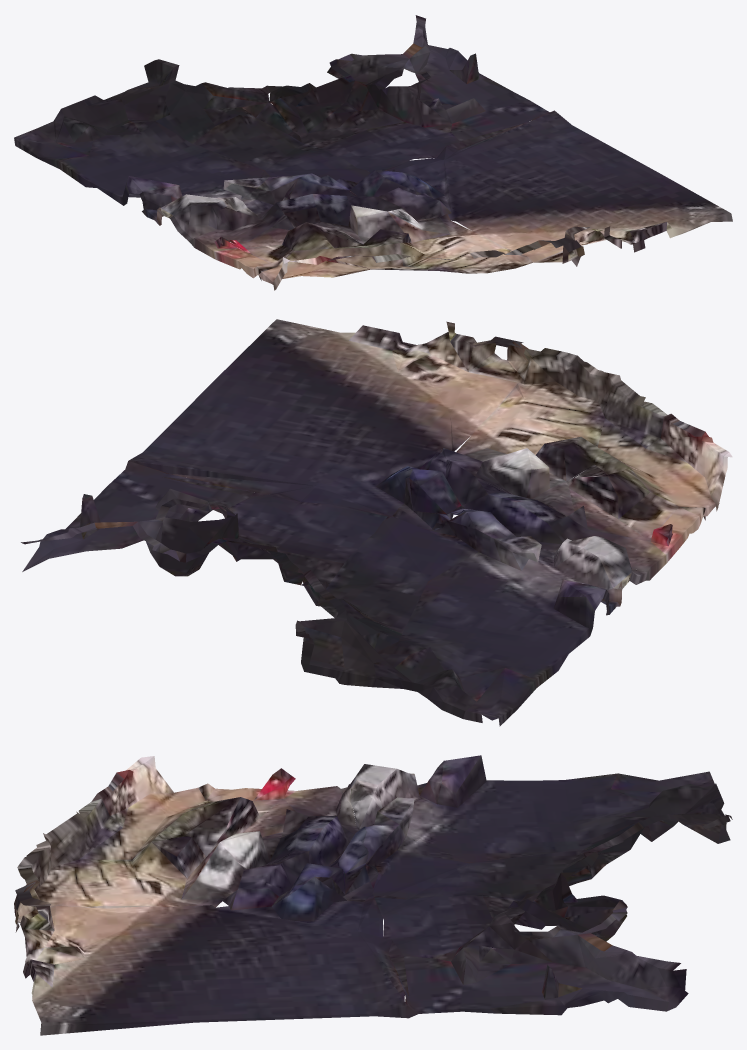
3 renders of one model, top to bottom at view 1: azimuth 30°, elevation 25°; view 2: azimuth 150°, elevation 25°; view 3: azimuth 270°, elevation 25°, orthographic. The views are drawn at different scales.
Visible parts, largest first — view 1: Mesh_0; view 2: Mesh_0; view 3: Mesh_0.
Part boxes in pixels (left/top/right/bottom): Mesh_0: left=14, top=15, right=732, bottom=290; Mesh_0: left=21, top=319, right=732, bottom=726; Mesh_0: left=14, top=755, right=732, bottom=1035.
Size of the model in its own units: 33.33 by 3.25 by 37.47.
1 material, 1 textured.
